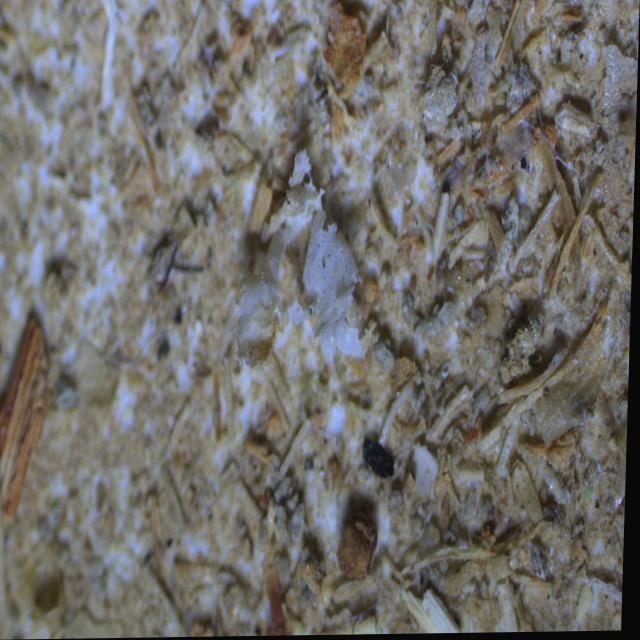microplastic: (230, 141, 371, 381)
